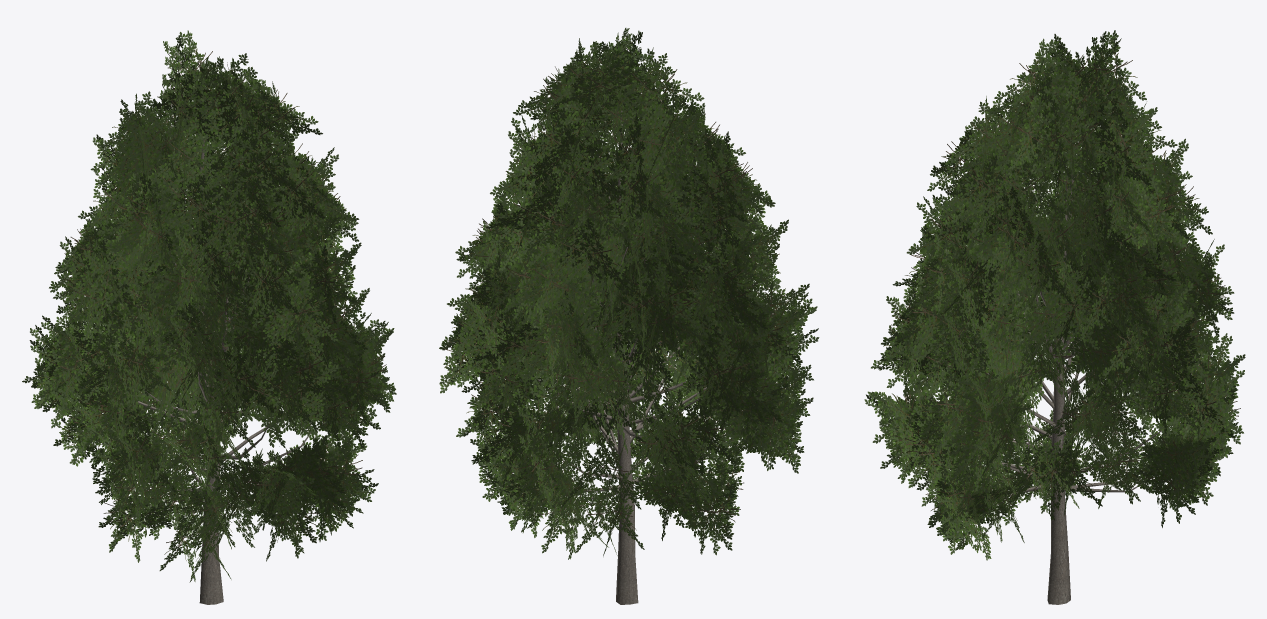
The model's file is Carpinus_Betulus_Spring_Young.glb.
The picture shows the model from 3 angles, left to right: view 1: azimuth 30°, elevation 25°; view 2: azimuth 150°, elevation 25°; view 3: azimuth 270°, elevation 25°; orthographic projection. The views are drawn at different scales.
Visible parts, largest first — view 1: Carpinus_Betulus_Spring_Young__LOD3; view 2: Carpinus_Betulus_Spring_Young__LOD3; view 3: Carpinus_Betulus_Spring_Young__LOD3.
Boxes of the visible parts, left/top/right/bottom form: Carpinus_Betulus_Spring_Young__LOD3: left=22, top=30, right=396, bottom=604; Carpinus_Betulus_Spring_Young__LOD3: left=439, top=28, right=819, bottom=604; Carpinus_Betulus_Spring_Young__LOD3: left=864, top=30, right=1245, bottom=604.
Size of the model in its own units: 6.34 by 10.53 by 6.5.
Materials: 2 (2 with a texture image).
